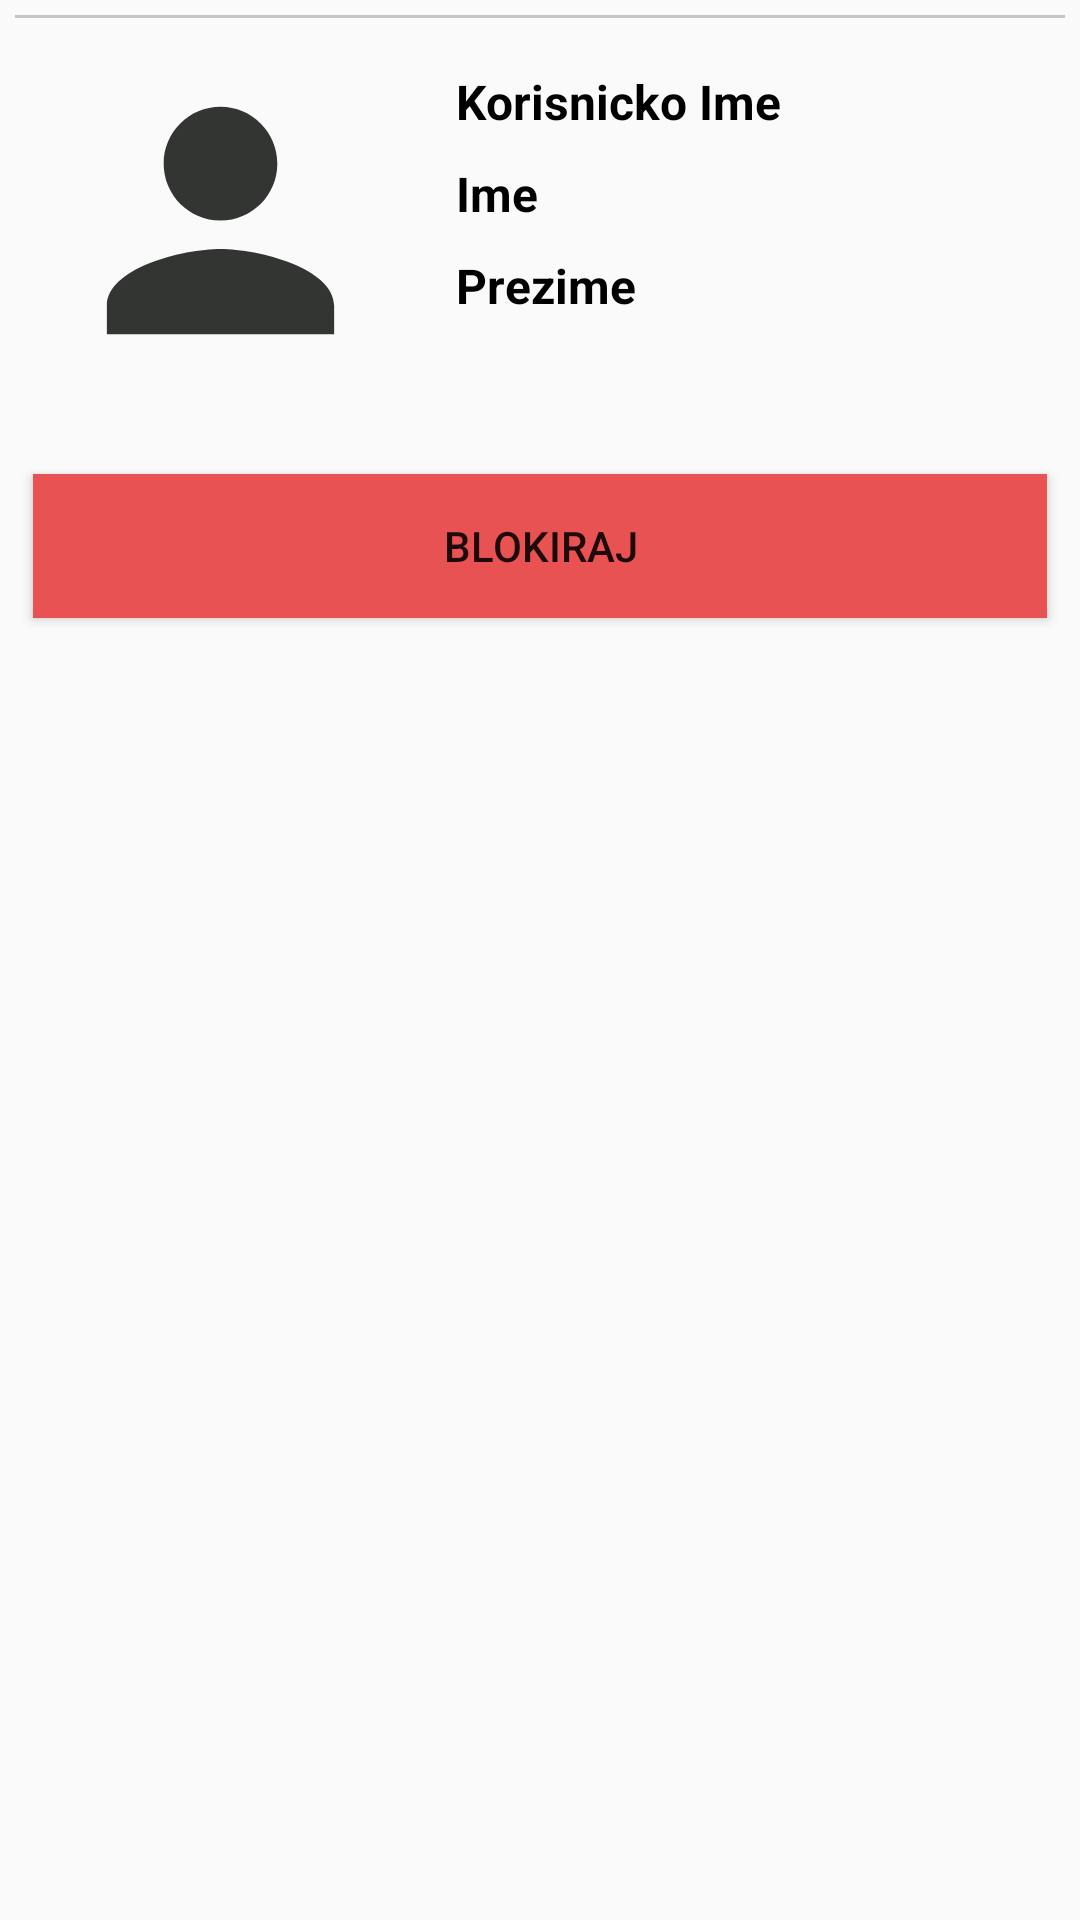

Icon bounding boxes for this 1080×1920 phone screenshot, format (x1, y1, x2, y2):
user: (106, 106, 335, 335)
